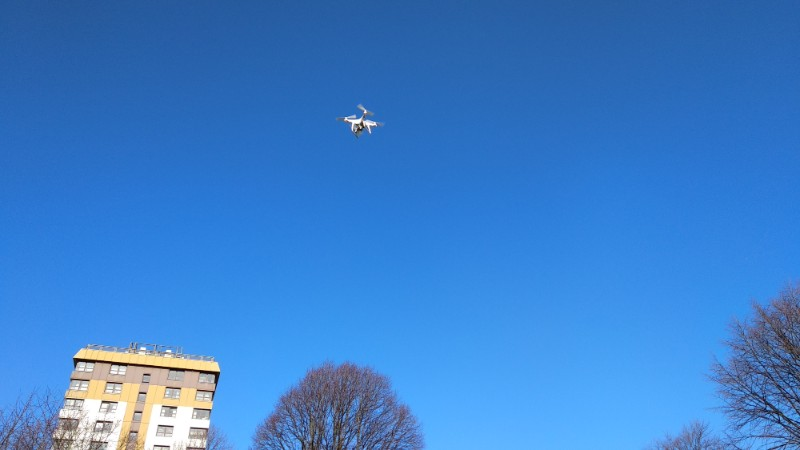drone: (334, 101, 388, 141)
